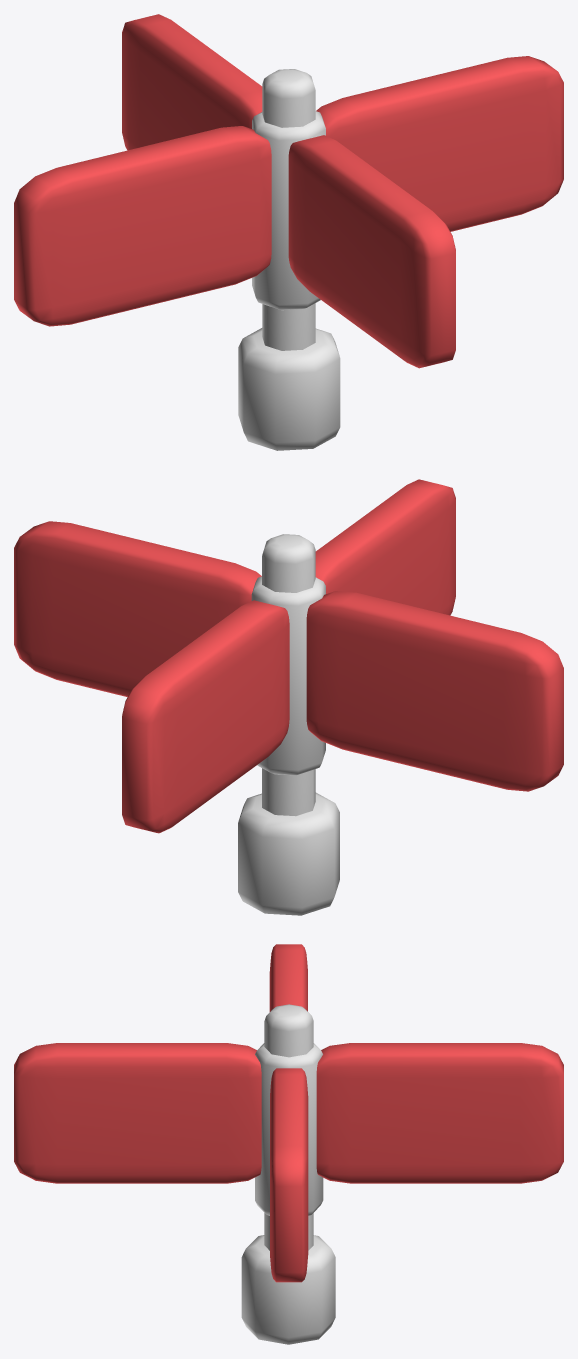
Rendered from WindRose_Obstacle.fbx.
3 renders of one model, top to bottom at view 1: azimuth 30°, elevation 25°; view 2: azimuth 150°, elevation 25°; view 3: azimuth 270°, elevation 25°, orthographic. The views are drawn at different scales.
Parts seen in each view (by area): view 1: up, down; view 2: up, down; view 3: up, down.
Part boxes in pixels (x1,y1,x2,y2): up: (14,14,563,368); down: (238,328,340,450); up: (14,479,563,833); down: (238,792,339,915); up: (14,944,563,1282); down: (241,1235,335,1344).
Bounding box in the file's own units: 215 × 138 × 215.
